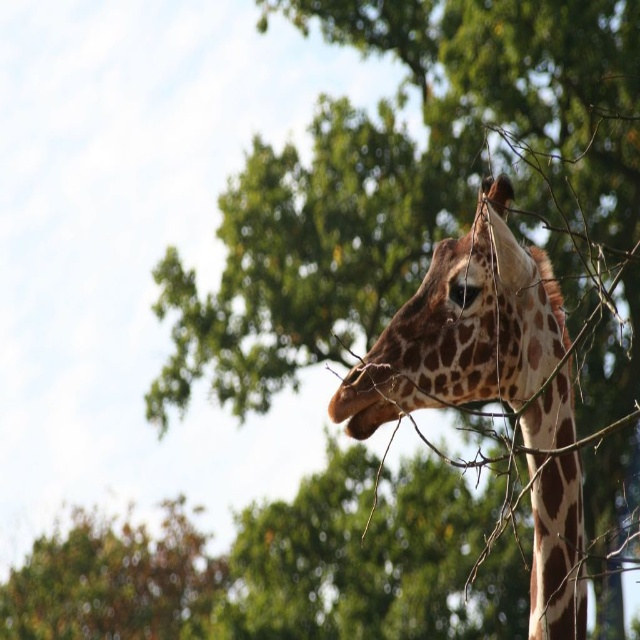Giraffe: (322, 175, 590, 639)
